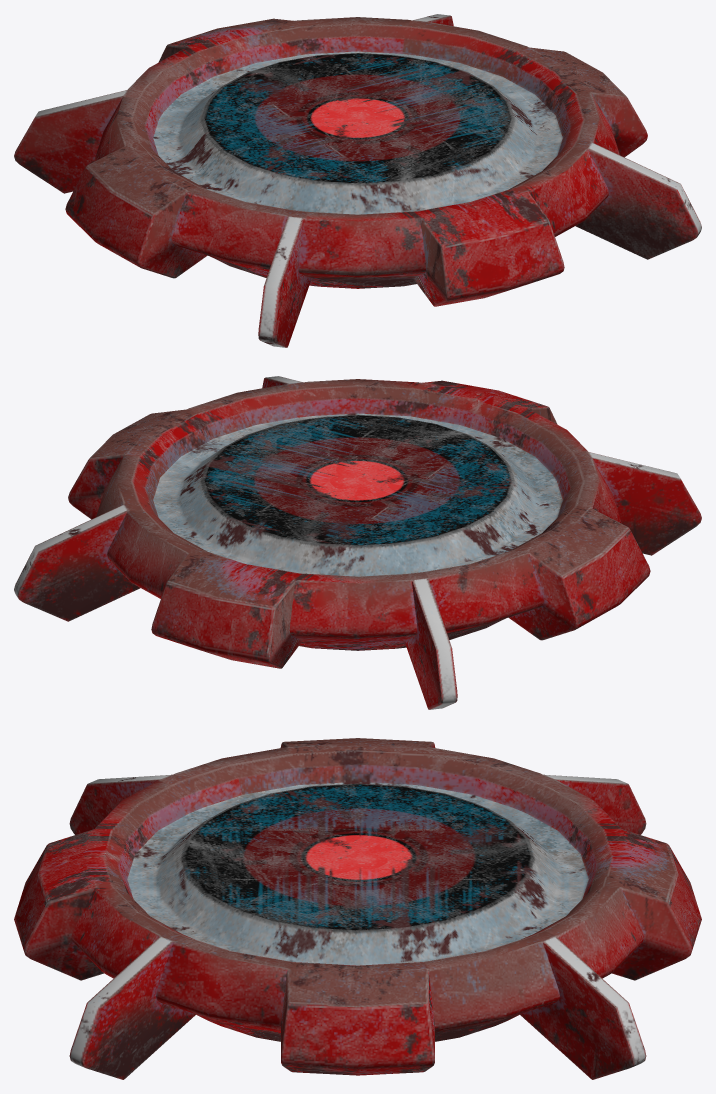
The model's file is QFT.FBX.
3 renders of one model, top to bottom at view 1: azimuth 30°, elevation 25°; view 2: azimuth 150°, elevation 25°; view 3: azimuth 270°, elevation 25°, orthographic. The views are drawn at different scales.
Parts seen in each view (by area): view 1: base; view 2: base; view 3: base.
Part boxes in pixels (x1,y1,x2,y2): base: [14, 14, 701, 347]; base: [14, 376, 701, 709]; base: [14, 738, 701, 1079].
Bounding box in the file's own units: 12.56 × 2.39 × 12.57.
